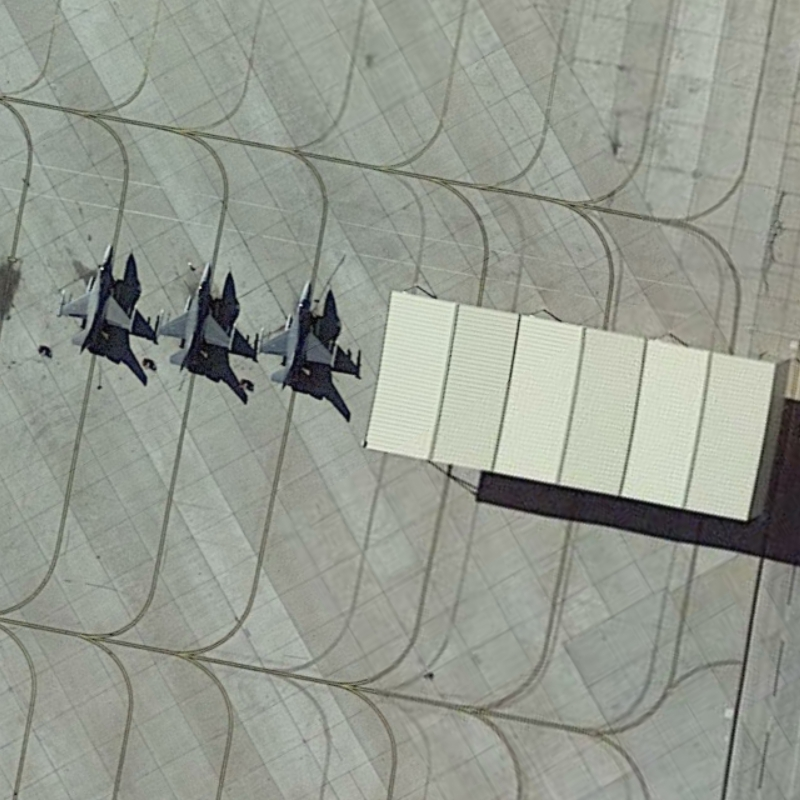A5: (244, 272, 353, 399), (149, 255, 243, 394), (54, 234, 144, 366)
